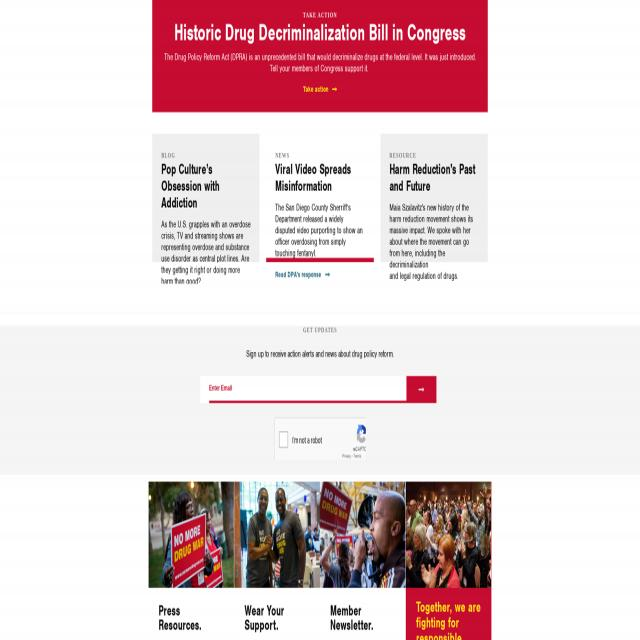button: (234, 483, 320, 640), (320, 483, 406, 640), (406, 483, 492, 640), (148, 482, 234, 638), (406, 376, 436, 404)
field: (209, 376, 407, 404), (279, 432, 288, 447)
